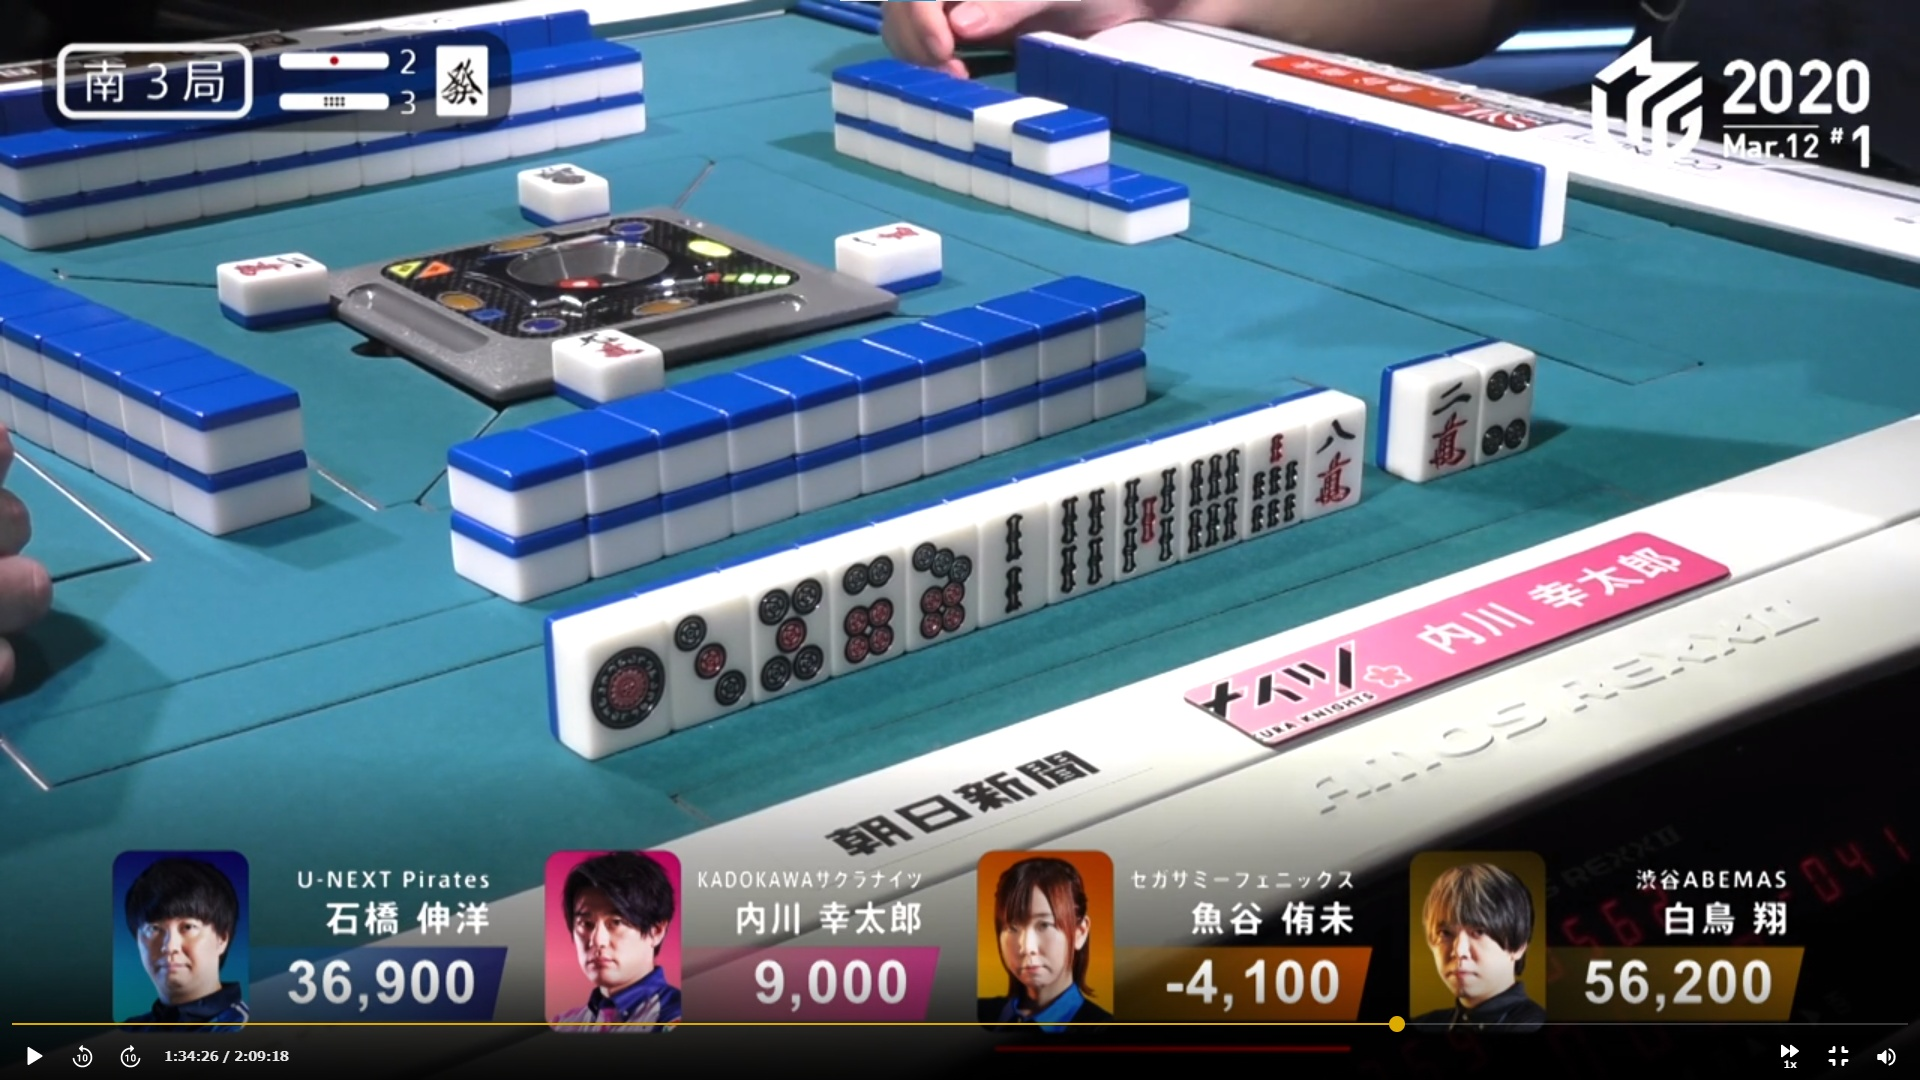1p: (566, 596, 669, 746)
2m: (1414, 363, 1476, 477)
2s: (981, 479, 1042, 613)
3p: (669, 582, 752, 724)
4p: (1474, 338, 1532, 458)
4s: (1046, 462, 1109, 600)
5p: (752, 558, 825, 686)
5s: (1106, 444, 1175, 576)
6p: (827, 531, 899, 665)
6s: (1179, 425, 1237, 553)
7s: (1244, 405, 1302, 534)
8m: (1304, 388, 1360, 512)
8p: (906, 505, 975, 645)
hand_nan_3: (51, 32, 264, 121)
round_3: (274, 82, 415, 117)
team_kadokawa: (1179, 620, 1447, 742)
